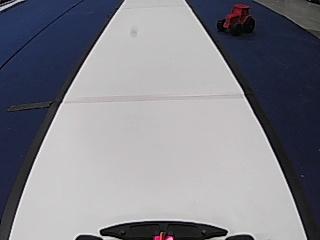tractor: (215, 4, 256, 38)
